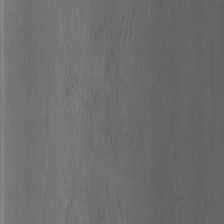silk_spot: (63, 2, 139, 146)
